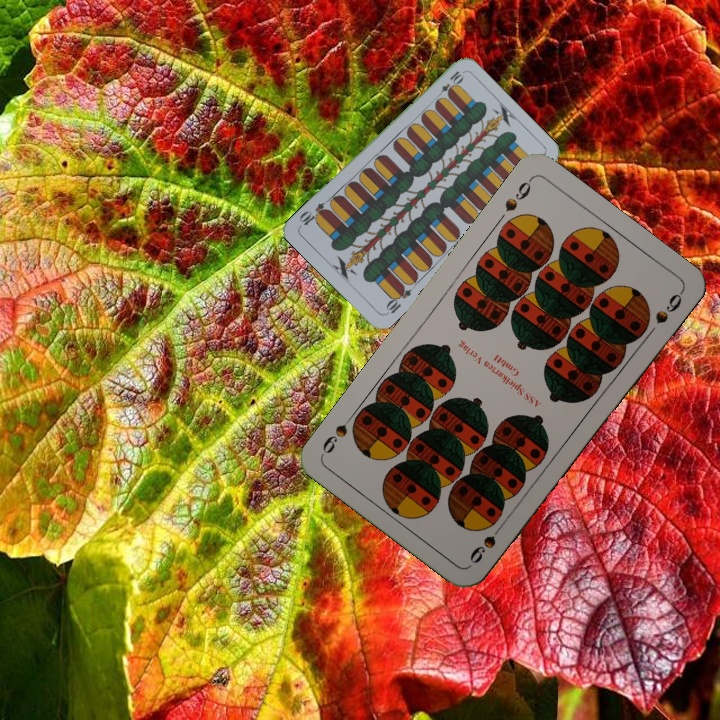E10: (432, 67, 466, 102), (381, 281, 414, 317)
S9: (465, 517, 508, 567), (500, 174, 535, 215)
